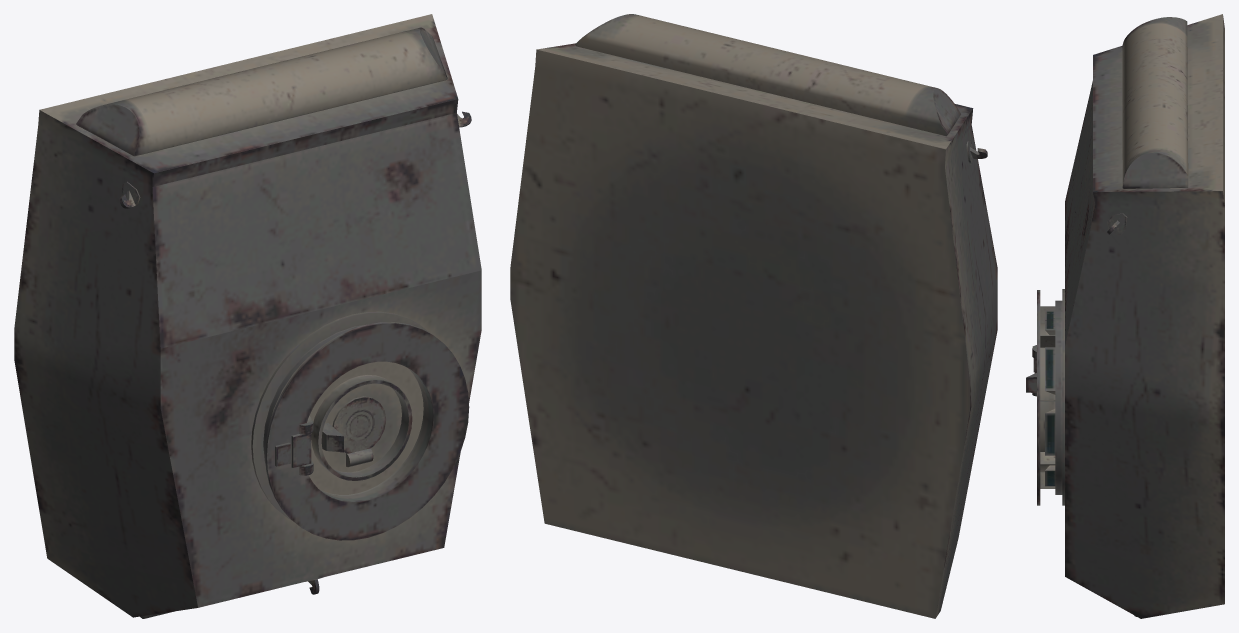
The model's file is Turret_01.glb.
The picture shows the model from 3 angles, left to right: view 1: azimuth 30°, elevation 25°; view 2: azimuth 150°, elevation 25°; view 3: azimuth 270°, elevation 25°; orthographic projection. The views are drawn at different scales.
Visible parts, largest first — view 1: set_0_group_0; view 2: set_0_group_0; view 3: set_0_group_0.
Boxes of the visible parts, box(x1,y1,x2,y2) form: set_0_group_0: box(14, 14, 481, 618); set_0_group_0: box(510, 14, 997, 618); set_0_group_0: box(1026, 14, 1224, 618).
Bounding box in the file's own units: 1.54 × 1.69 × 0.6504.
Materials: 1 (1 with a texture image).
